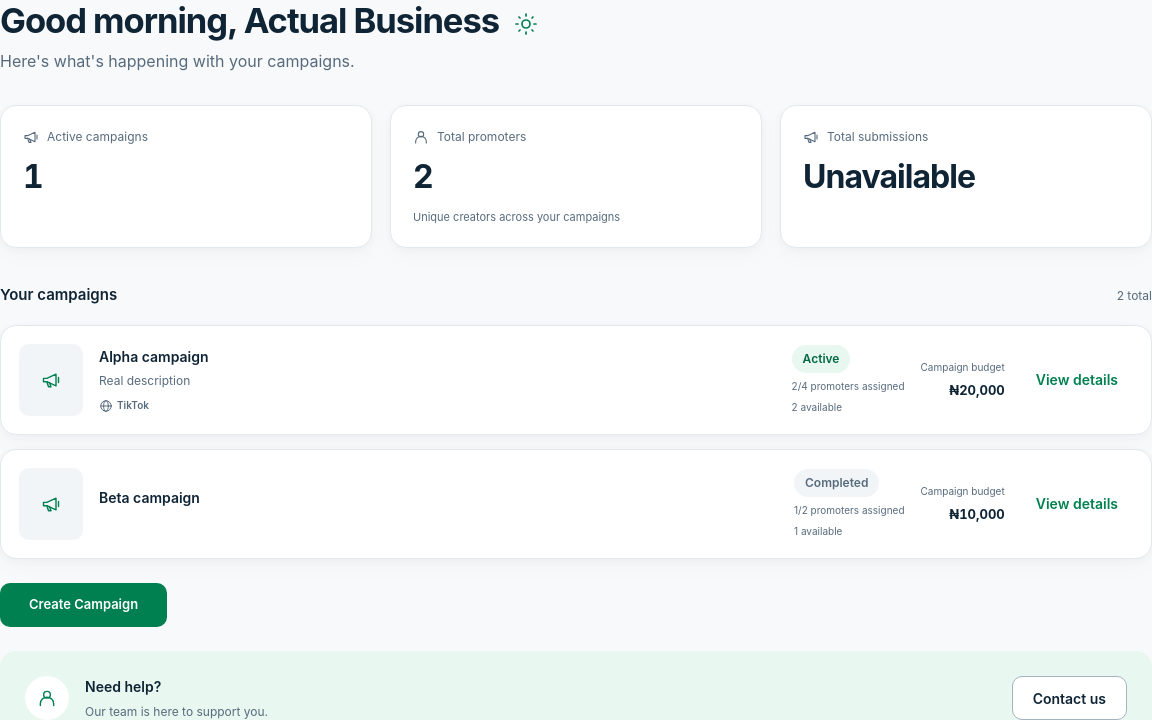
it: submission failure stays unavailable and role guard remains intact
This screenshot has width=1152, height=720.
Click the button with aria-label "View Alpha campaign": coordinates (1077, 380) [1021,358,1133,402]
(page scrolled)
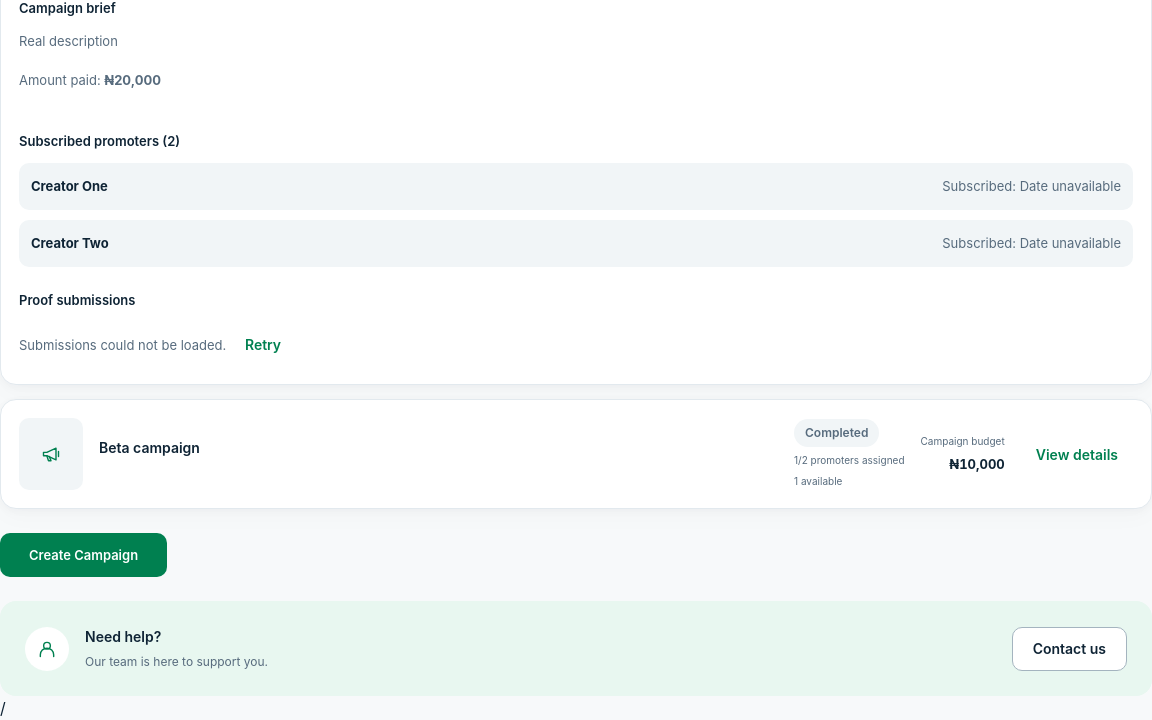
Result: the text "Submissions could not be loaded" is shown at [19,337,230,353]
Result: the text "/" is shown at [0,698,6,718]
